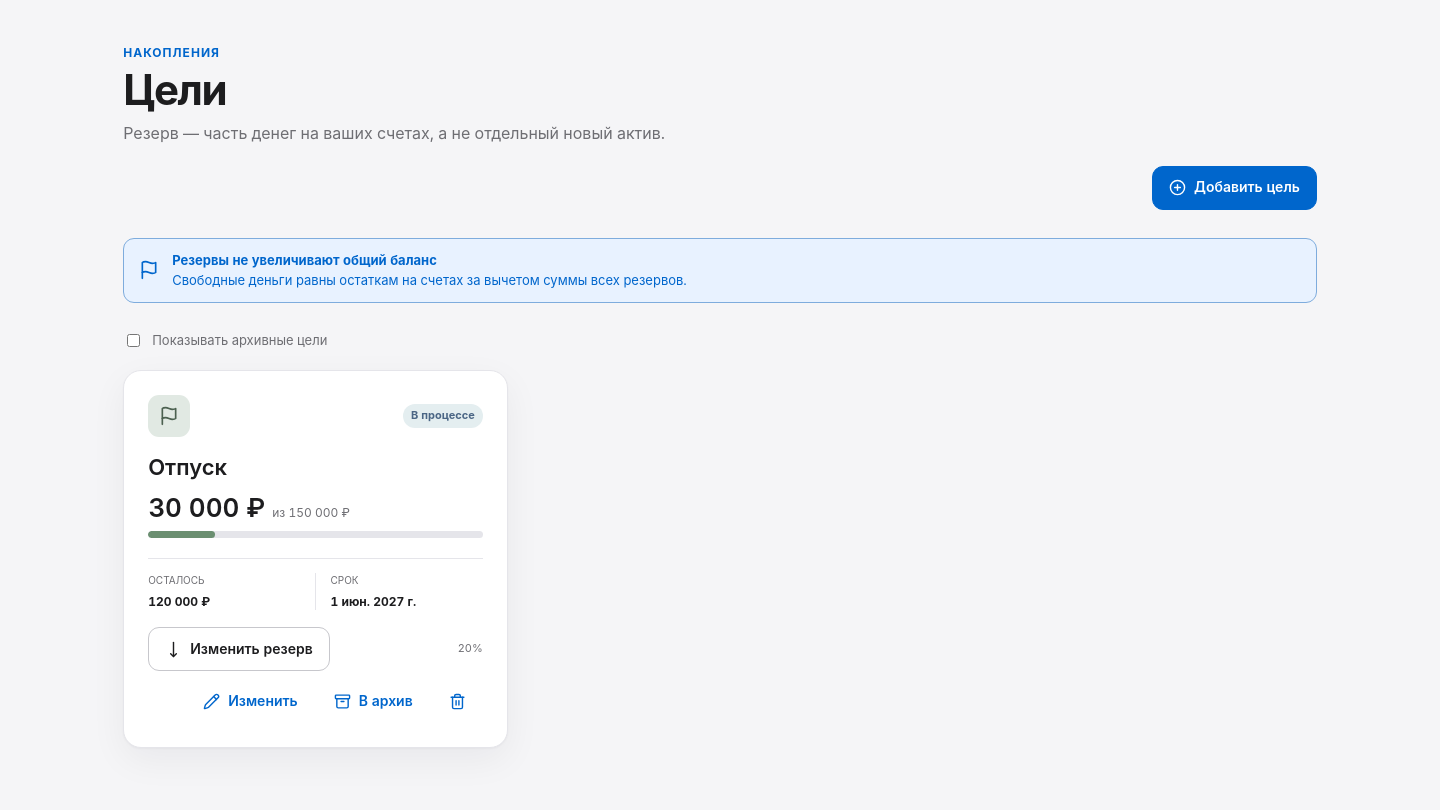
Test: goal reserve operations › hard-deletes only through the versioned safe-delete endpoint
Expected: the heading "Отпуск" is shown, [148, 454, 227, 480]
Click the button named "Удалить цель Отпуск". click: (457, 701)
box: [432, 679, 483, 723]
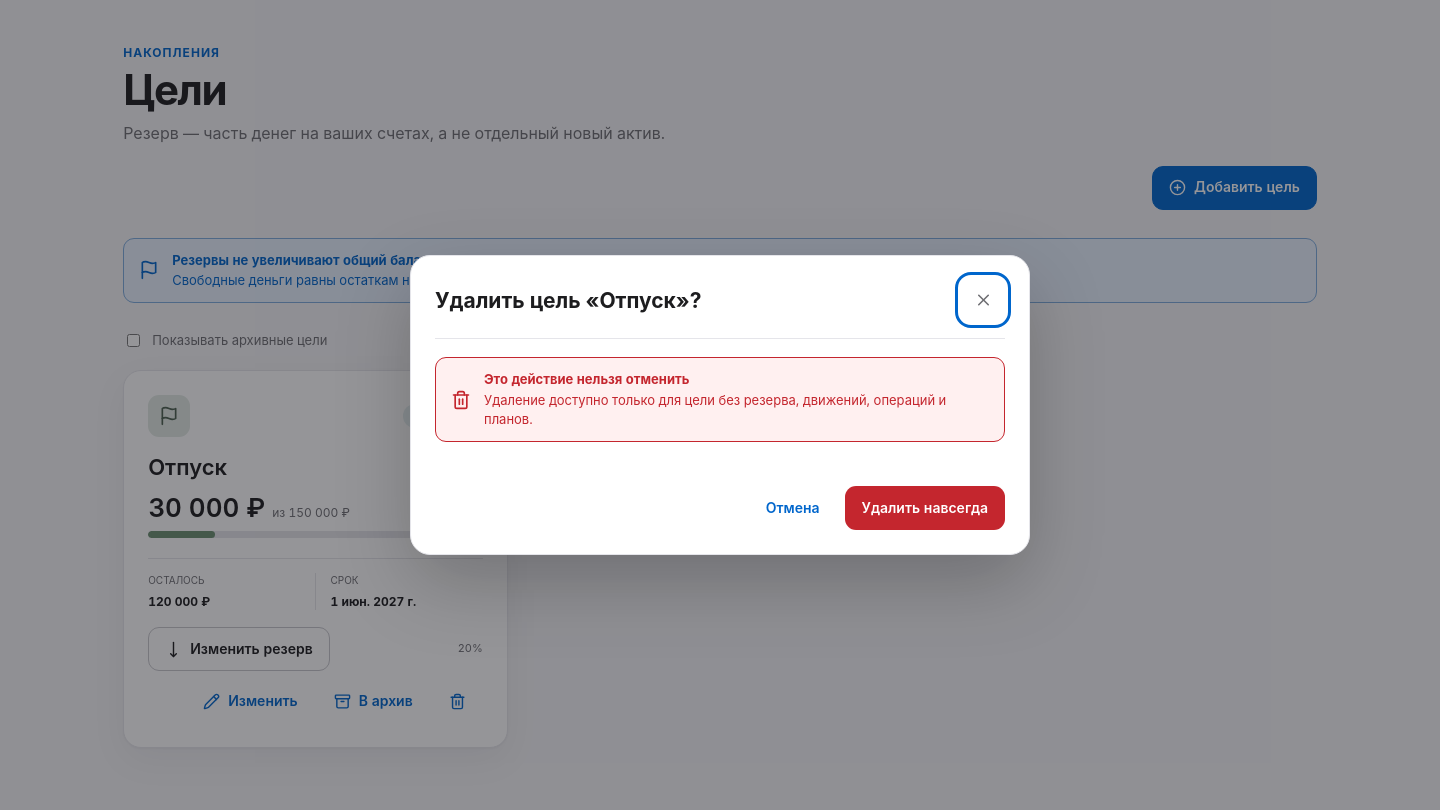
Now the text "Это действие нельзя отменить" is shown, box [484, 371, 689, 387]
Click the button "Удалить навсегда". click: (925, 508)
box: [844, 486, 1005, 530]
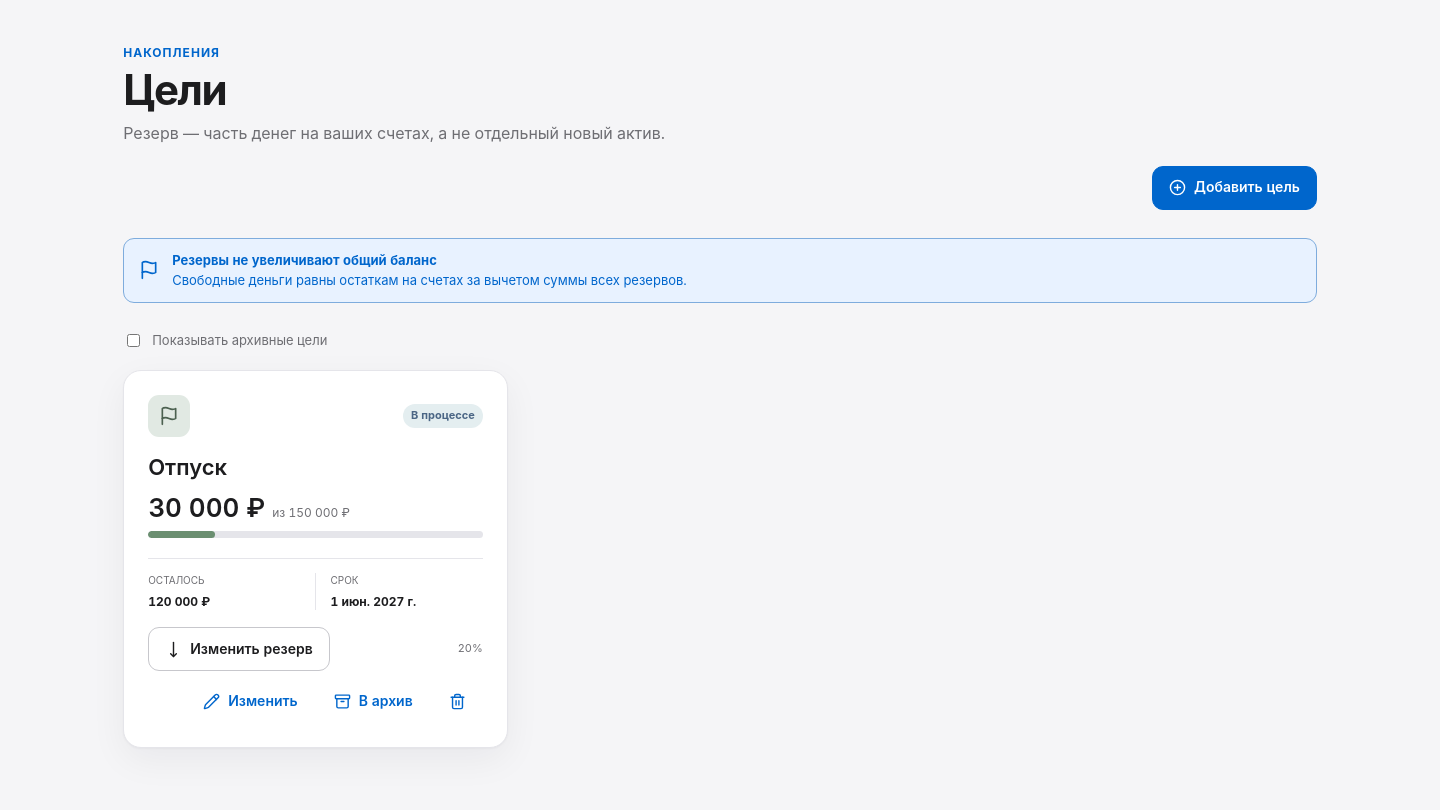
Now the heading "Удалить цель" is gone
